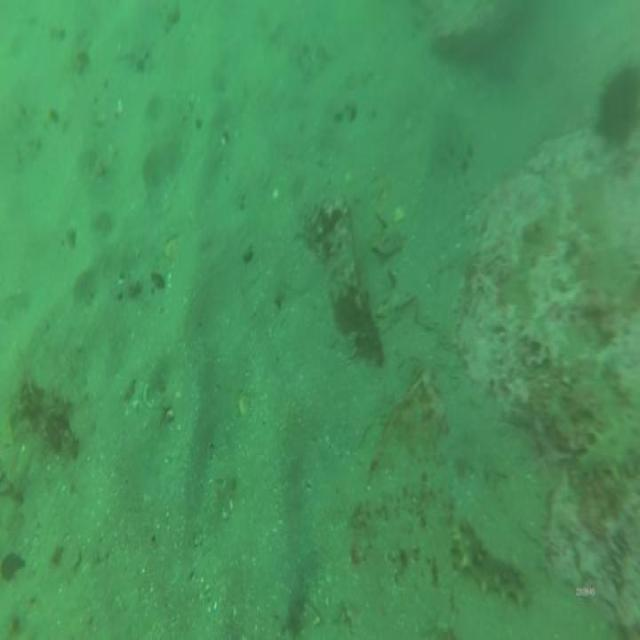echinus: (595, 55, 640, 145)
holothurian: (452, 515, 532, 607)
